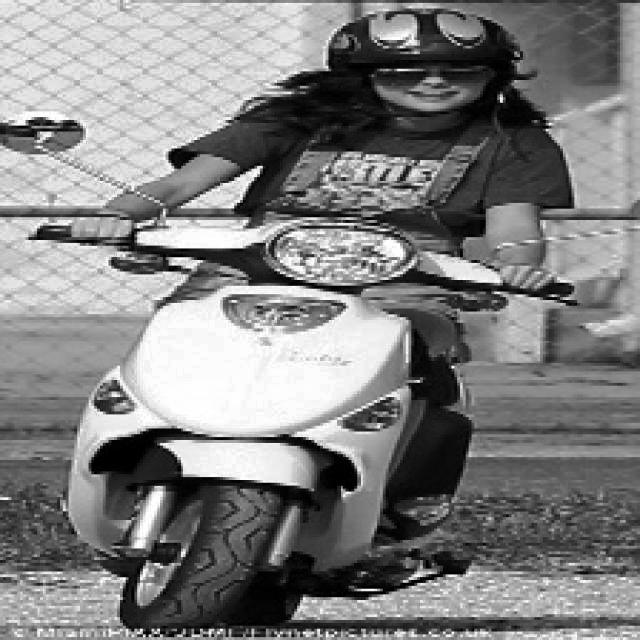Bike: (29, 207, 525, 633)
